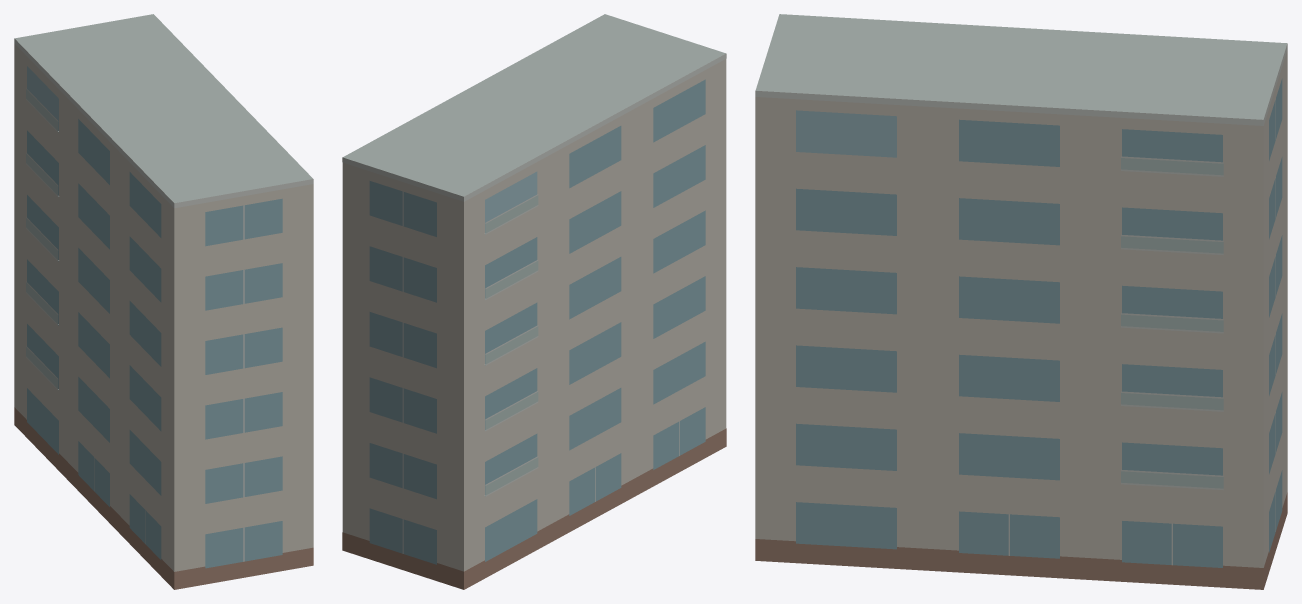
Rendered from survey-upis-33011630.glb.
3 views of the same model, side by side, from view 1: azimuth 30°, elevation 25°; view 2: azimuth 150°, elevation 25°; view 3: azimuth 270°, elevation 25° (orthographic). The views are drawn at different scales.
Visible parts, largest first — view 1: survey-upis-33011630.tmp; view 2: survey-upis-33011630.tmp; view 3: survey-upis-33011630.tmp.
Boxes of the visible parts, box(x1,y1,x2,y2) form: survey-upis-33011630.tmp: box(14, 14, 313, 589); survey-upis-33011630.tmp: box(342, 14, 726, 589); survey-upis-33011630.tmp: box(755, 14, 1287, 589).
Bounding box in the file's own units: 9.04 × 18.7 × 19.2.
